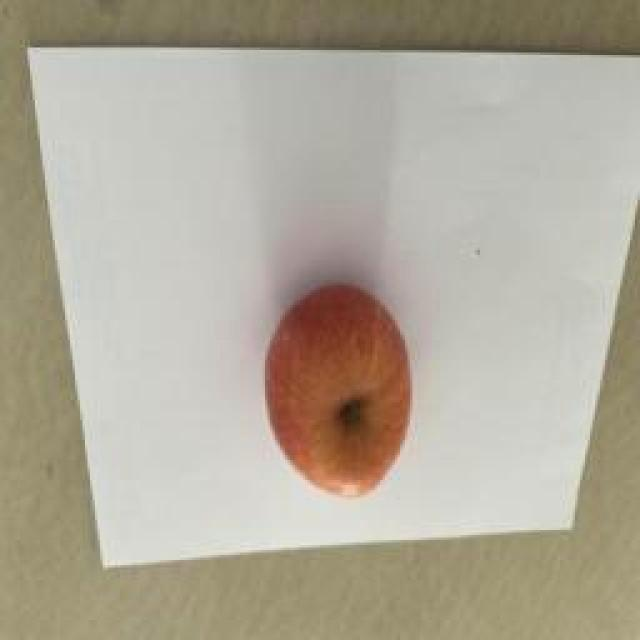apple: (265, 283, 411, 494)
